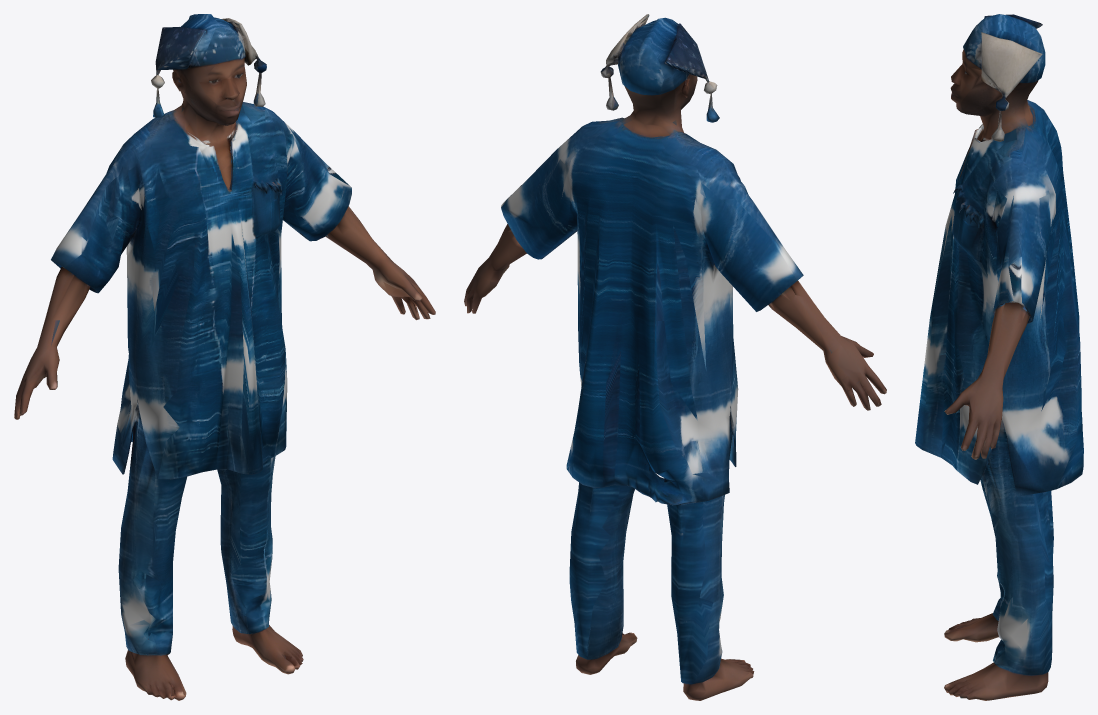
Rendered from le dogon anime.glb.
3 views of the same model, side by side, from view 1: azimuth 30°, elevation 25°; view 2: azimuth 150°, elevation 25°; view 3: azimuth 270°, elevation 25° (orthographic).
Parts seen in each view (by area): view 1: Mesh_0; view 2: Mesh_0; view 3: Mesh_0.
Boxes of the visible parts, x1,y1,x2,y2 form: Mesh_0: [14, 14, 435, 700]; Mesh_0: [464, 14, 886, 700]; Mesh_0: [915, 14, 1083, 700].
Size of the model in its own units: 1.33 by 2 by 0.4694.
1 material, 1 textured.
